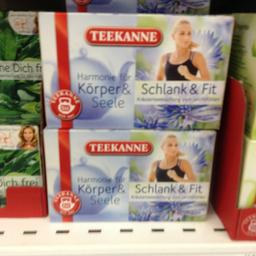tea: (36, 7, 234, 127), (41, 126, 216, 223)
